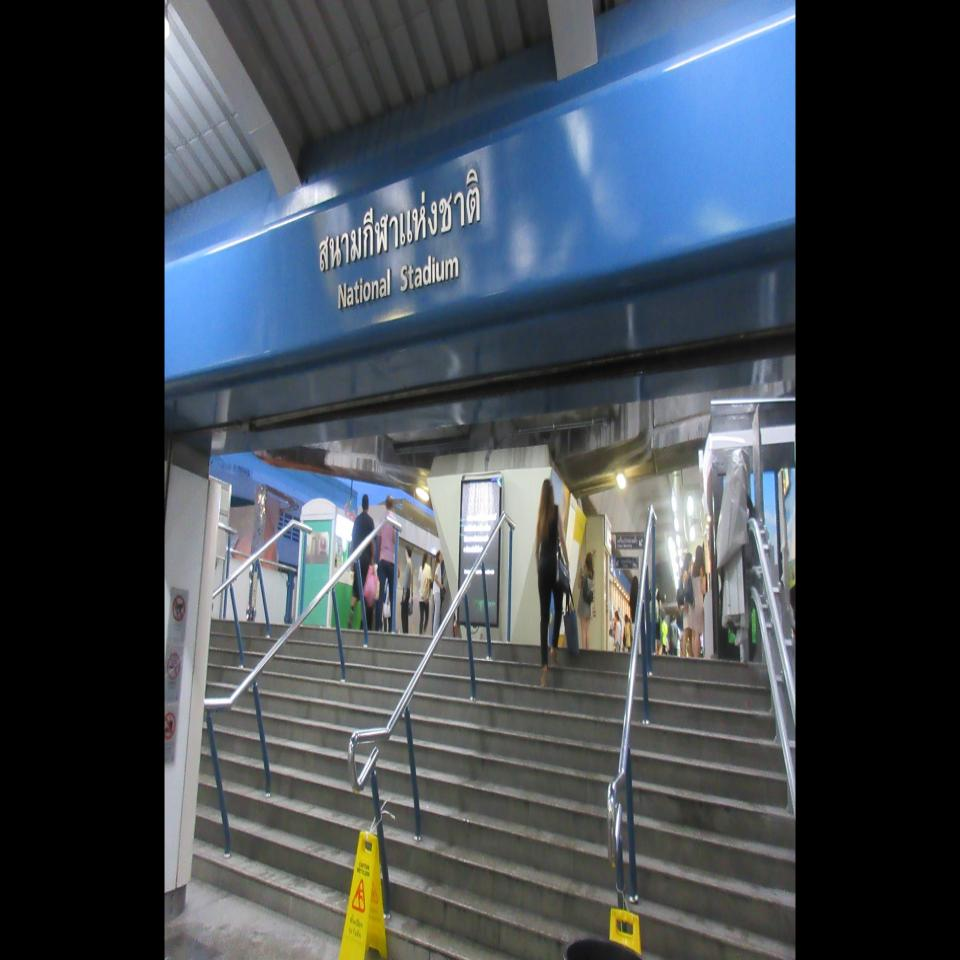National Stadium: (318, 166, 482, 313)
